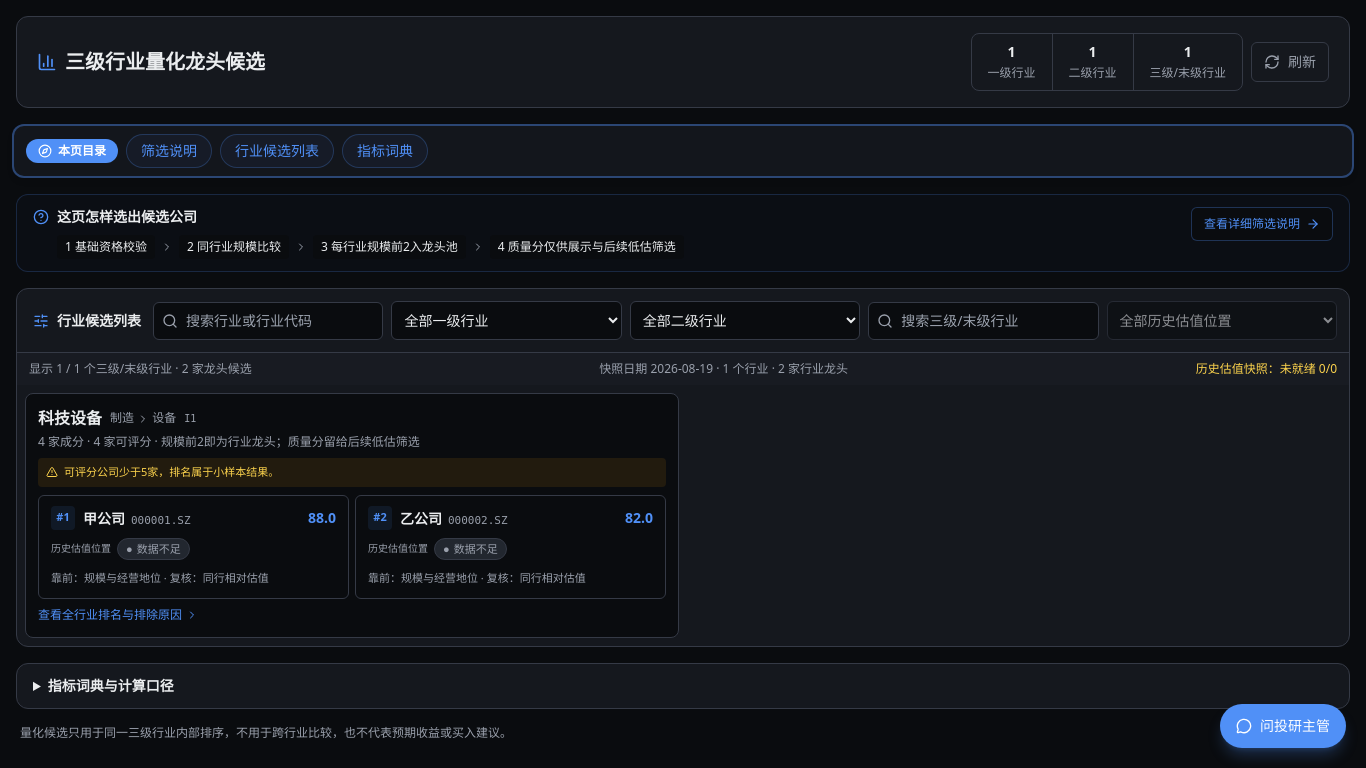
ValueLeaderPoolPage › shows quality-unknown stage-1 leaders with a placeholder badge
# 页面挂载会命中模块级缓存，点击「刷新」强制重取榜单。
Click the button "刷新" at x=1290, y=62, box [1251, 42, 1329, 82]
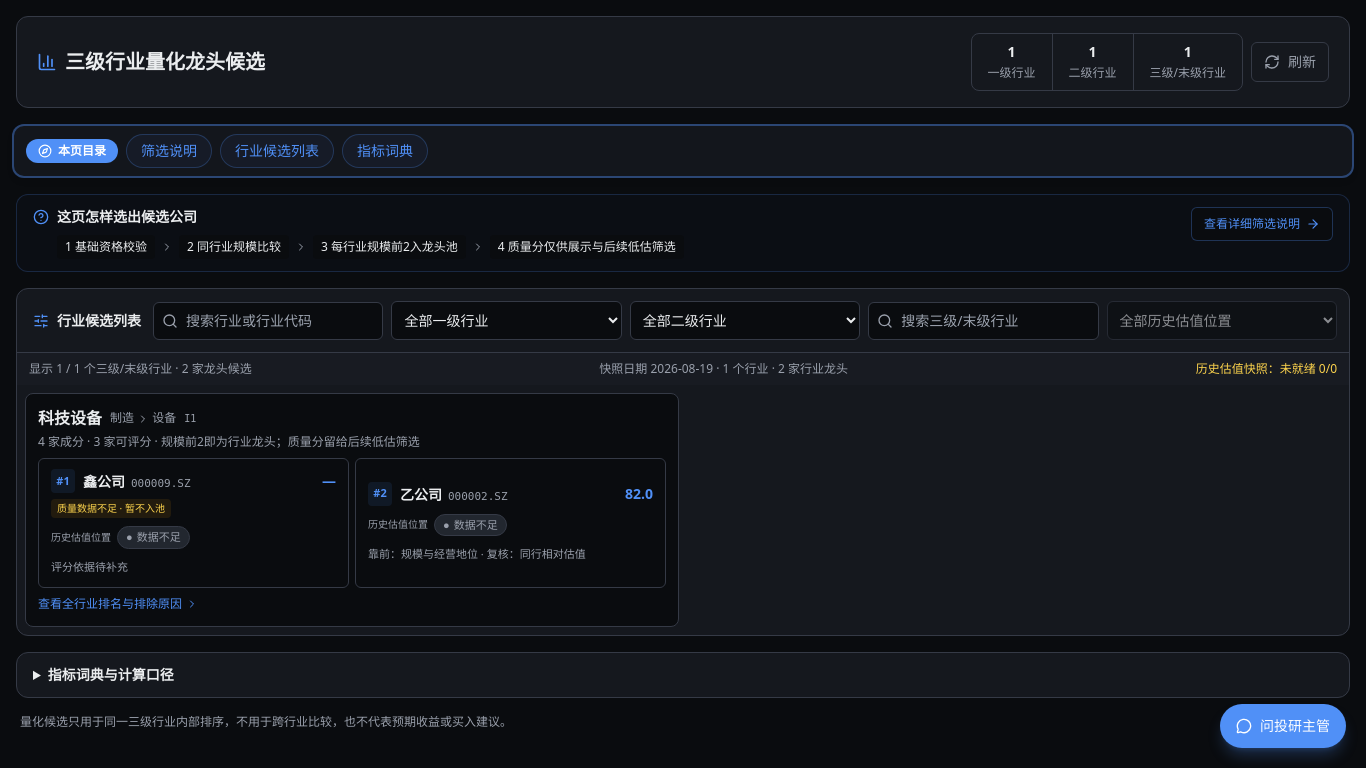
Now the text "鑫公司" is shown, box [83, 472, 125, 491]
Now the text "质量数据不足 · 暂不入池" is shown, box [51, 499, 171, 518]
